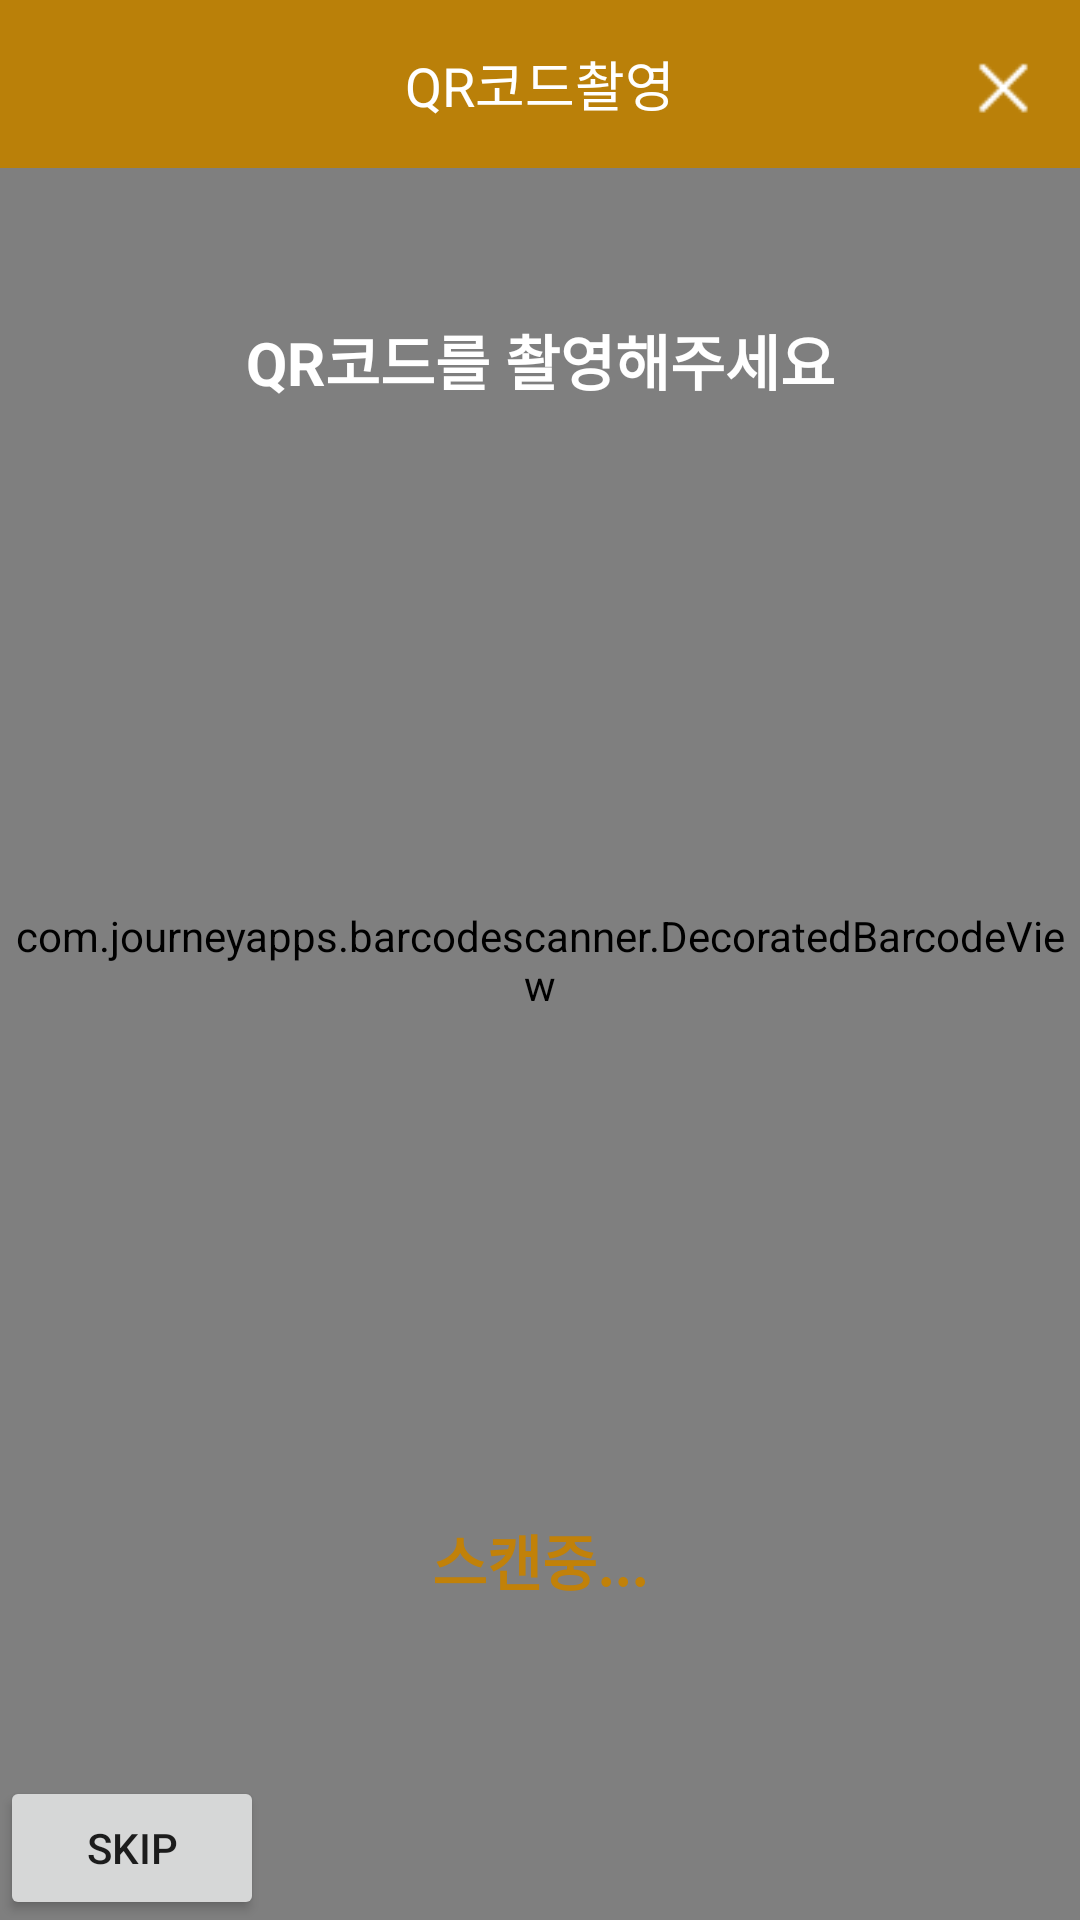

Point at icon controls on the screen. Image size 1080×1920, points as (x,y).
close: (1003,88)
